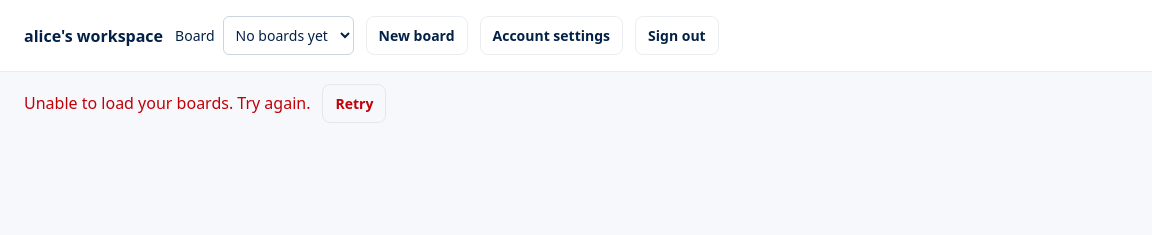
Test: recovers from a board list error
Check: the message shows "Unable to load", box [24, 92, 310, 114]
Click the button "Retry" at (354, 104), box [322, 84, 386, 123]
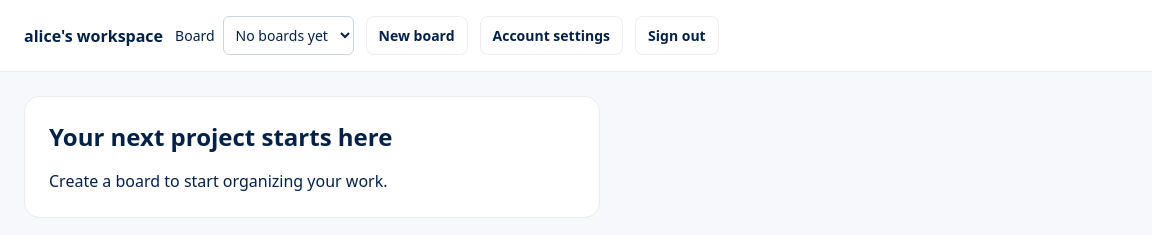
Check: the heading "Your next project starts here" is shown, box [49, 120, 392, 153]
